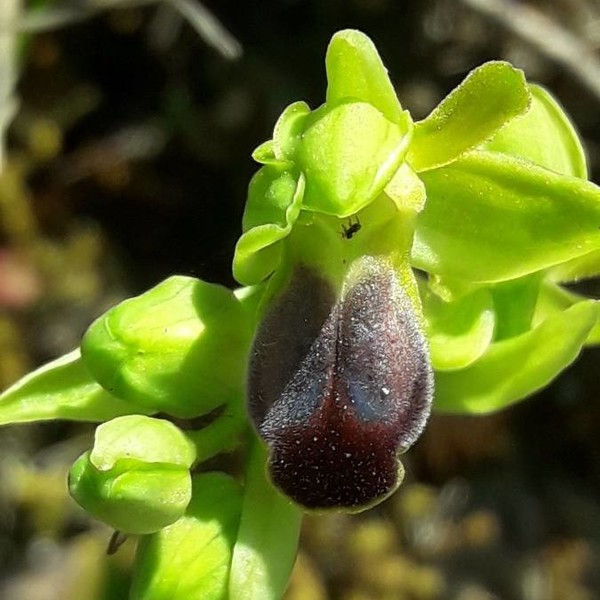obstacle: (42, 66, 528, 551)
